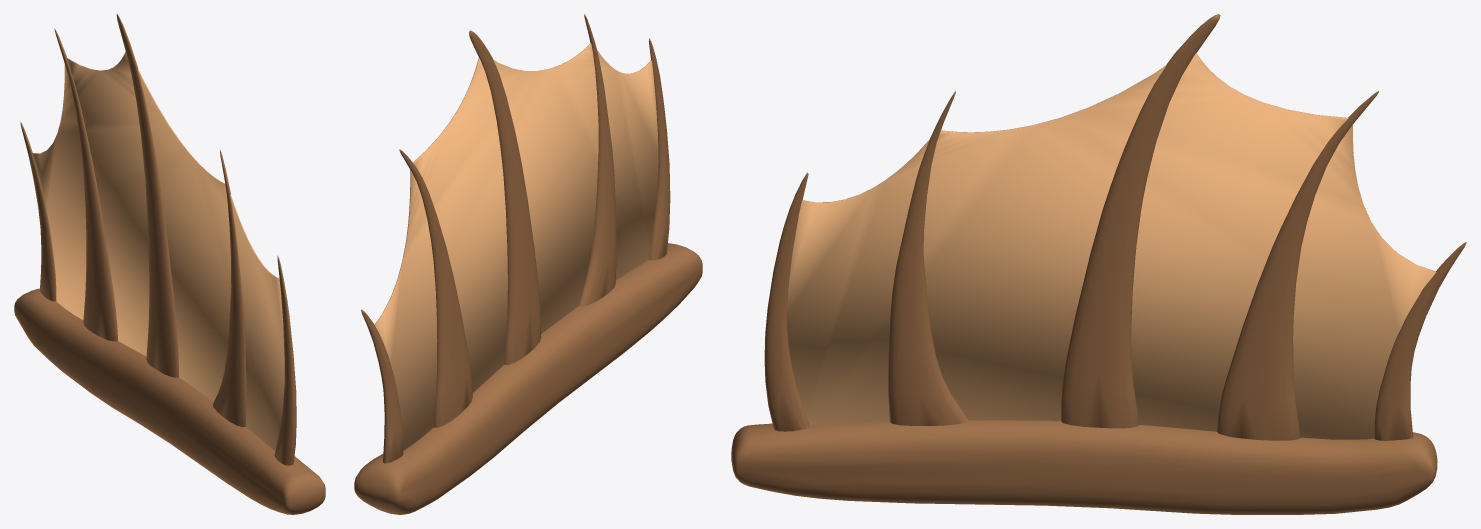
The model's file is Mohawk Fin.fbx.
The picture shows the model from 3 angles, left to right: view 1: azimuth 30°, elevation 25°; view 2: azimuth 150°, elevation 25°; view 3: azimuth 270°, elevation 25°; orthographic projection. The views are drawn at different scales.
Visible parts, largest first — view 1: Mohawk Fin - zutomayo (MAVG); view 2: Mohawk Fin - zutomayo (MAVG); view 3: Mohawk Fin - zutomayo (MAVG).
Part boxes in pixels (box(x1,y1,x2,y2)): Mohawk Fin - zutomayo (MAVG): box(14, 14, 325, 514); Mohawk Fin - zutomayo (MAVG): box(354, 14, 702, 514); Mohawk Fin - zutomayo (MAVG): box(731, 14, 1466, 514).
Bounding box in the file's own units: 4.85 × 44.13 × 59.1.
